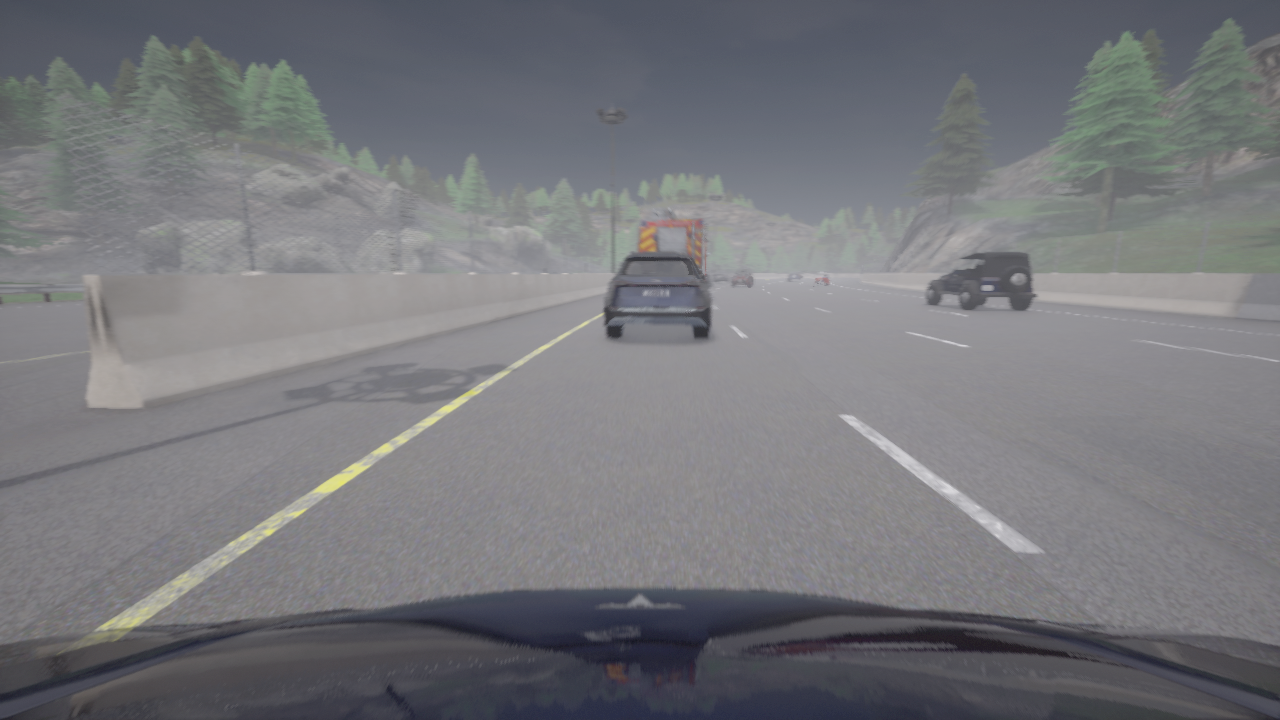cyclist: (0, 588, 1279, 719), (604, 250, 710, 339), (925, 251, 1037, 310), (638, 209, 710, 281), (731, 270, 751, 286), (712, 271, 731, 283), (813, 272, 828, 286), (787, 272, 803, 281), (706, 269, 713, 287)
